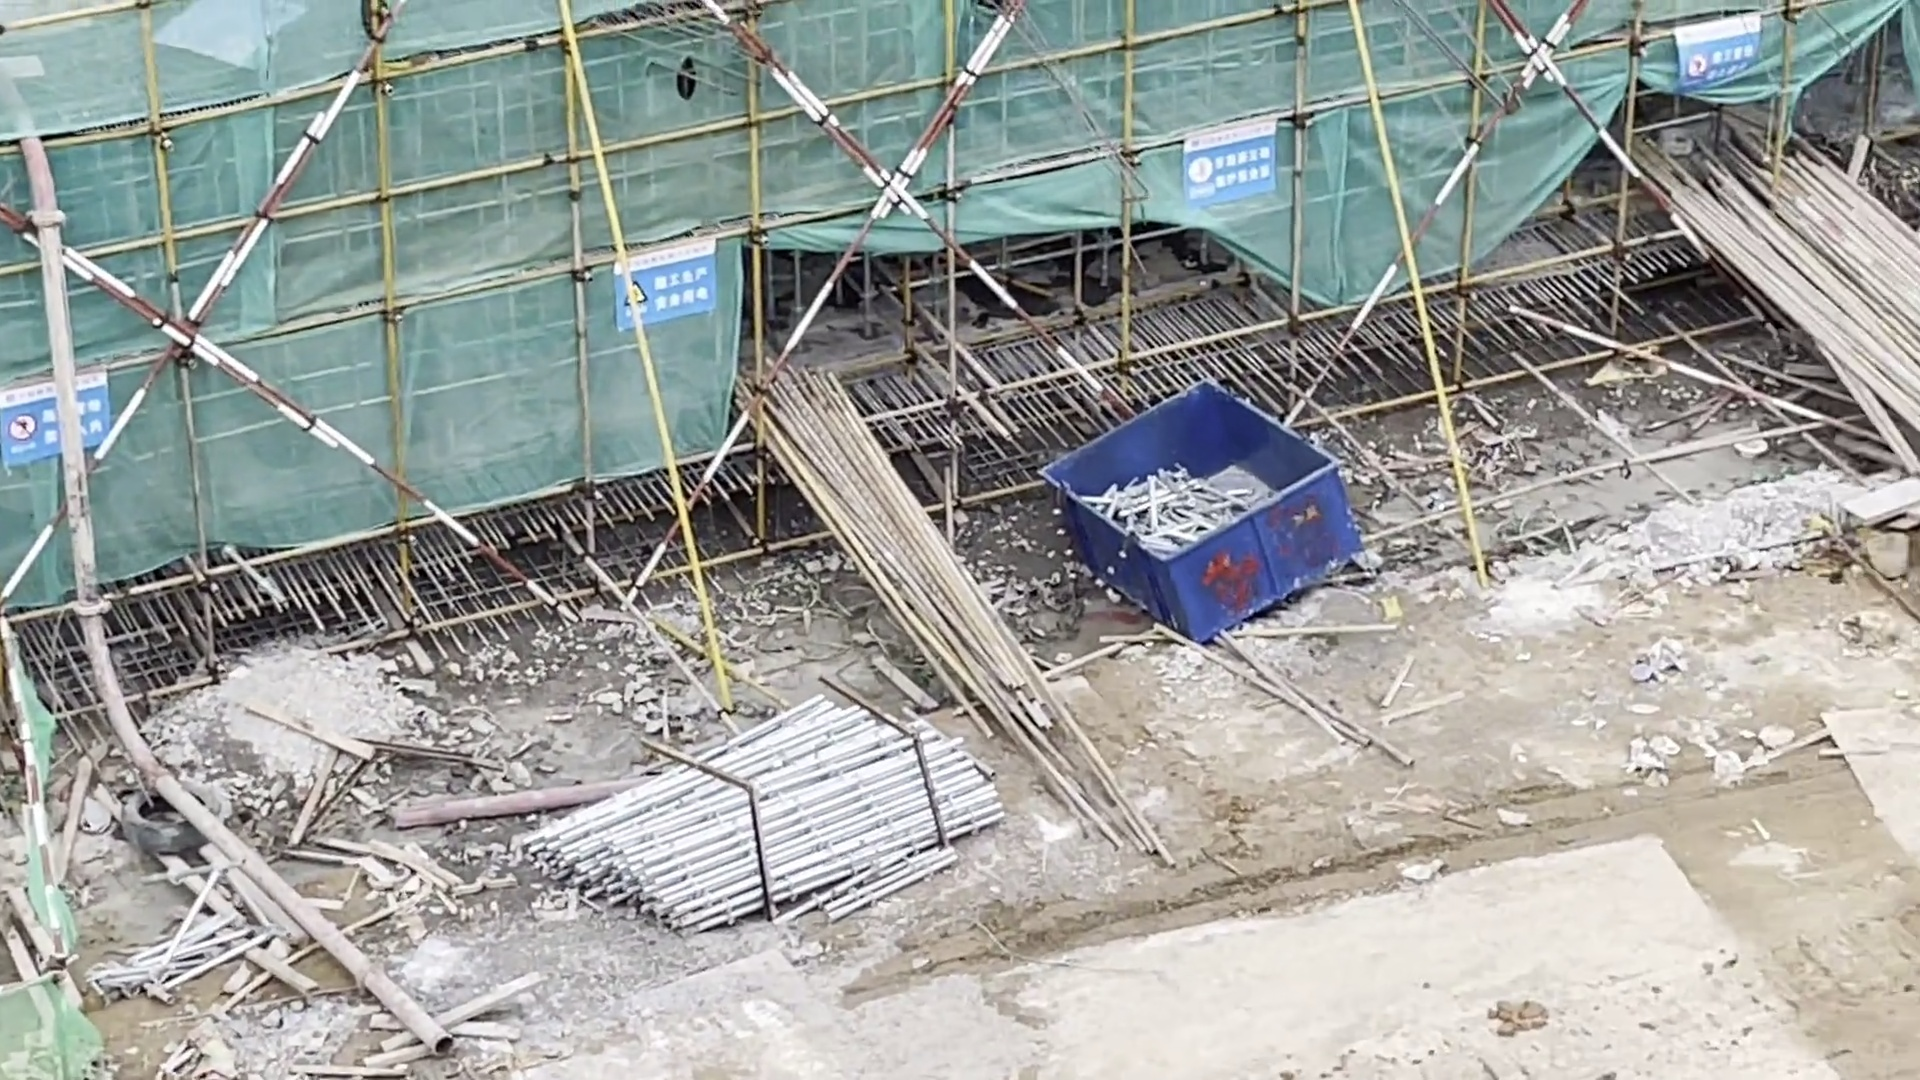hopper: (1042, 382, 1365, 647)
scaffold: (541, 731, 1019, 920)
